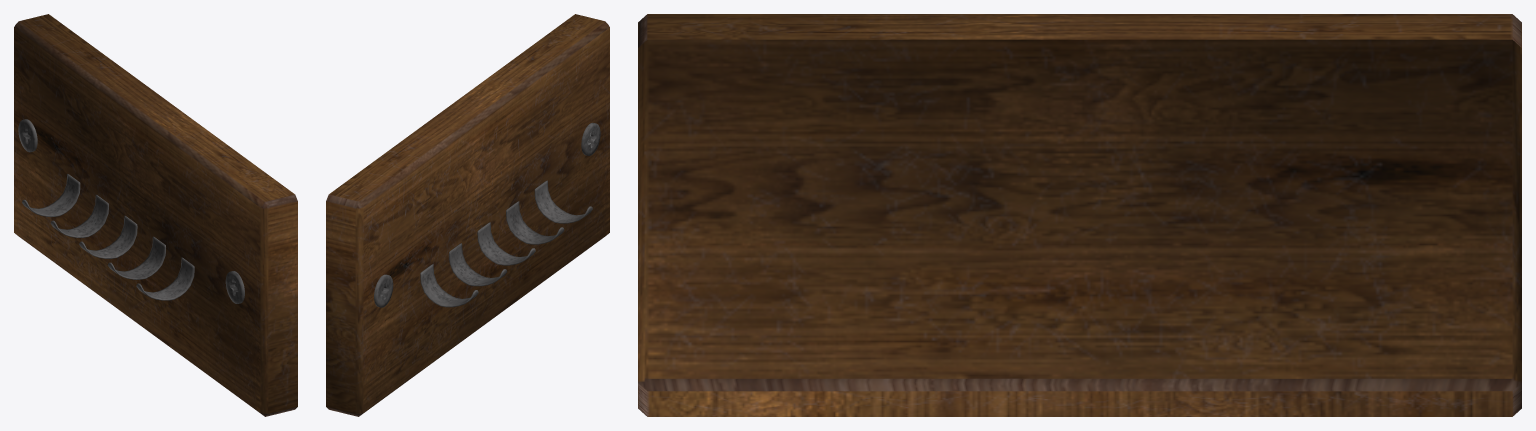
Rendered from KeysHolder.fbx.
3 renders of one model, left to right at view 1: azimuth 30°, elevation 25°; view 2: azimuth 150°, elevation 25°; view 3: azimuth 270°, elevation 25°, orthographic. The views are drawn at different scales.
Visible parts, largest first — view 1: KeyHolder_Law; view 2: KeyHolder_Law; view 3: KeyHolder_Law.
Part boxes in pixels (x1,y1,x2,y2): KeyHolder_Law: [14, 14, 297, 416]; KeyHolder_Law: [326, 14, 609, 416]; KeyHolder_Law: [638, 14, 1521, 416].
Size of the model in its own units: 11.11 by 26.65 by 56.58.
1 material, 1 textured.
